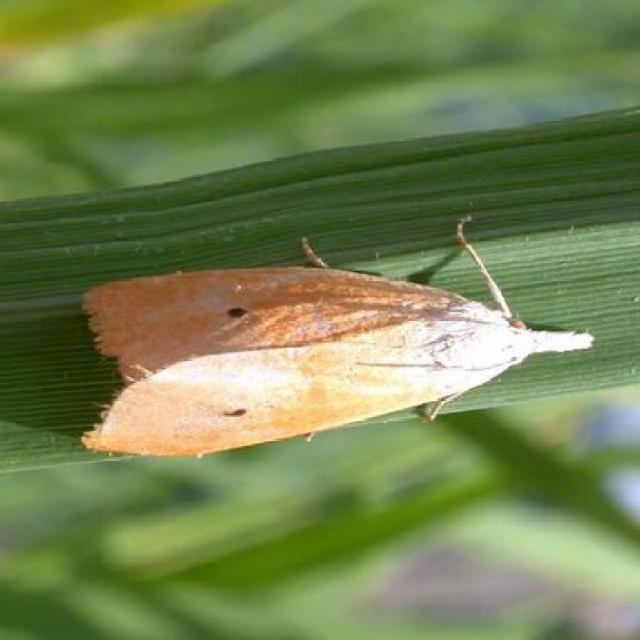stem-borer: (77, 262, 597, 460)
